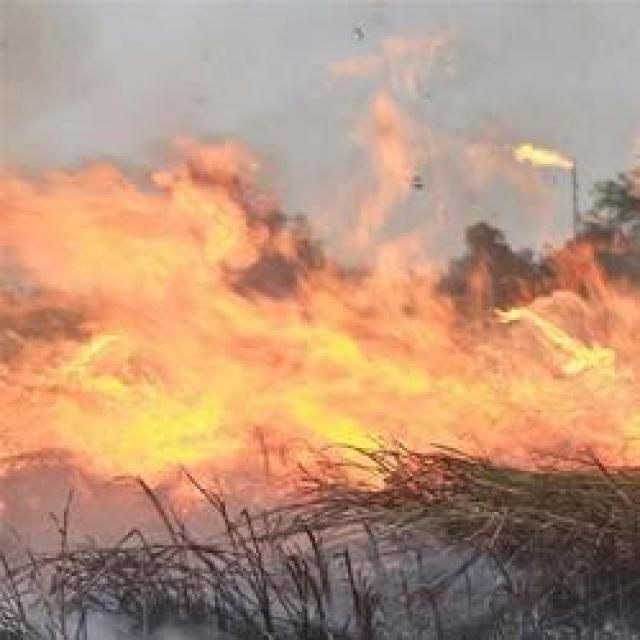fire: (61, 266, 233, 478), (489, 374, 633, 454), (304, 329, 404, 426), (59, 208, 184, 280), (1, 377, 91, 447), (382, 280, 440, 368), (532, 330, 606, 382)
smoke: (3, 8, 107, 120)
